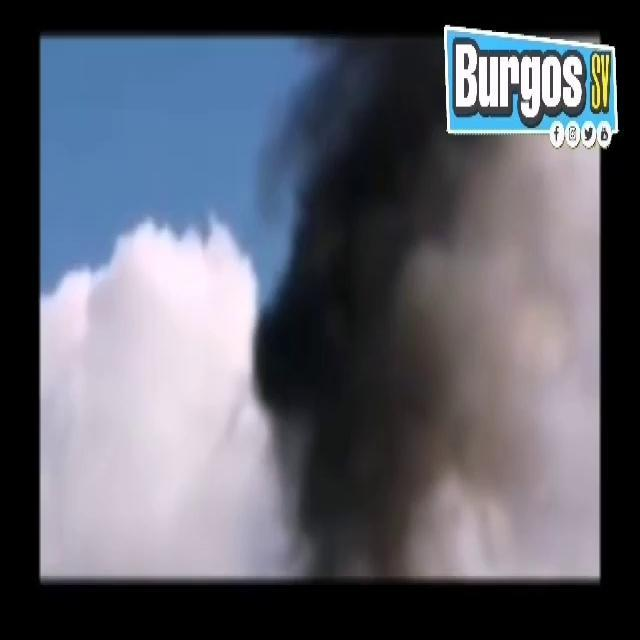Smoke: (249, 38, 489, 582)
